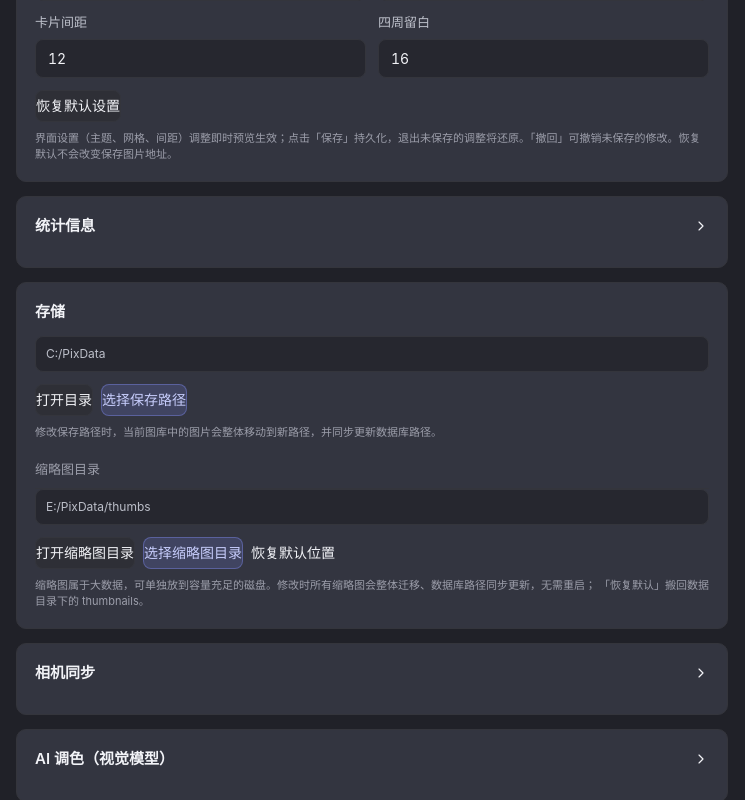
SettingsPage（补充：存储/相机/维护/备份/重复图片等交互流） › 选择保存路径：确认后移动并提示数量、刷新图库
(page scrolled)
Expected: the text "C:/PixData" is shown, 35,336 -> 709,372
Click the button "选择保存路径". click: (144, 400)
box: 101,384 -> 187,416
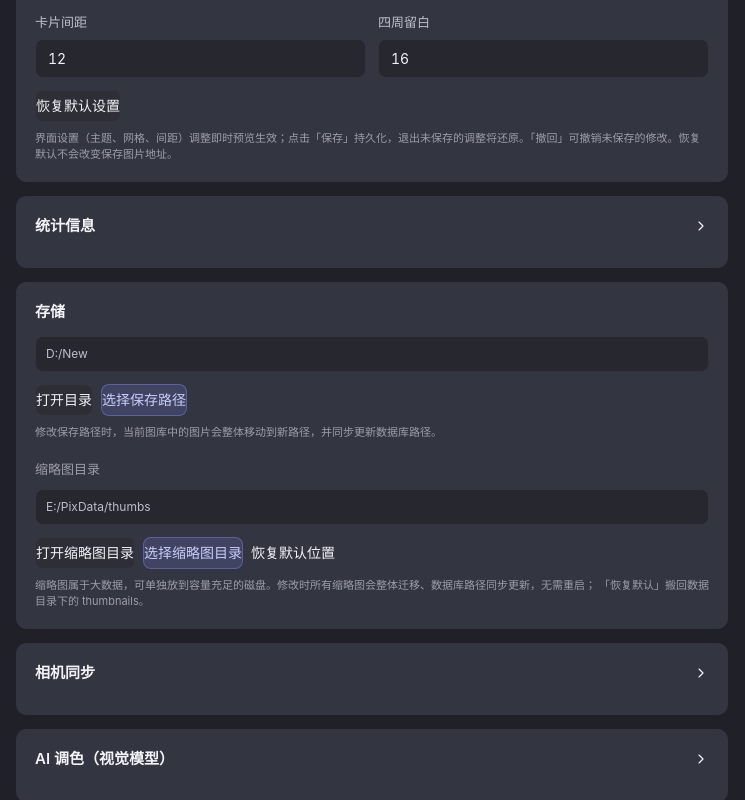
Now the text "D:/New" is shown, box 35,336 -> 709,372
